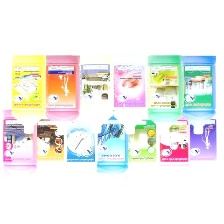cleaning_solution: (88, 107, 131, 191), (75, 50, 116, 134), (177, 52, 218, 135), (43, 50, 82, 136), (110, 50, 149, 136), (0, 107, 40, 190), (183, 107, 223, 190), (146, 50, 184, 137), (8, 50, 47, 134), (122, 108, 161, 191), (61, 109, 98, 191), (155, 109, 192, 189), (32, 107, 68, 189)
